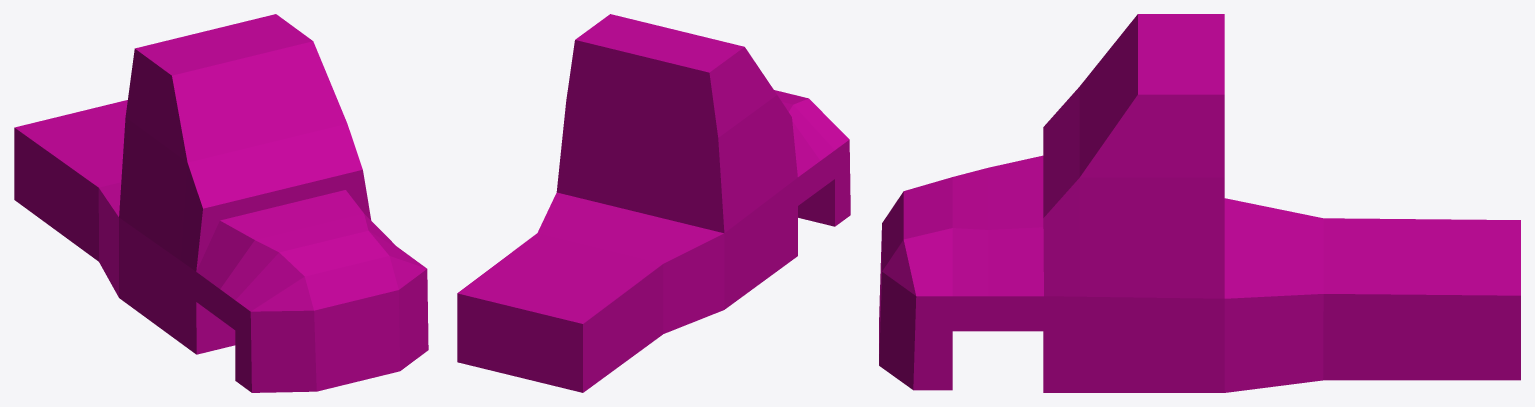
File: SM_Veh_Truck_Preset_01_Collision.fbx
The picture shows the model from 3 angles, left to right: view 1: azimuth 30°, elevation 25°; view 2: azimuth 150°, elevation 25°; view 3: azimuth 270°, elevation 25°; orthographic projection. The views are drawn at different scales.
Parts seen in each view (by area): view 1: SM_Veh_Truck_Preset_01_Collision; view 2: SM_Veh_Truck_Preset_01_Collision; view 3: SM_Veh_Truck_Preset_01_Collision.
Part boxes in pixels (x1,y1,x2,y2): SM_Veh_Truck_Preset_01_Collision: (14, 14, 428, 392); SM_Veh_Truck_Preset_01_Collision: (457, 14, 850, 392); SM_Veh_Truck_Preset_01_Collision: (879, 14, 1520, 392).
Size of the model in its own units: 280 by 372 by 753.
